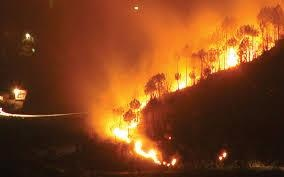fire: (100, 84, 173, 167)
